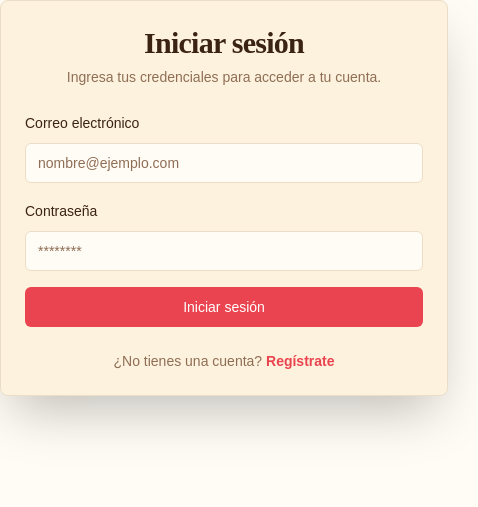
Test: LoginForm › should show validation error for invalid email
Type "invalid-email" into the field labelled "Correo electrónico" at {"x": 224, "y": 163}, box [25,143,423,183]
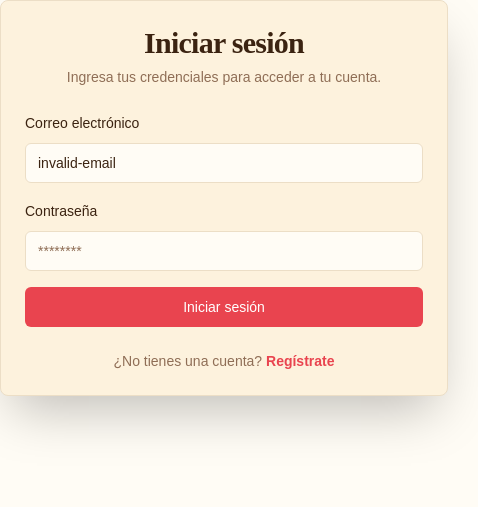
Click the button "Iniciar sesión" at {"x": 224, "y": 307}, box [25,287,423,327]
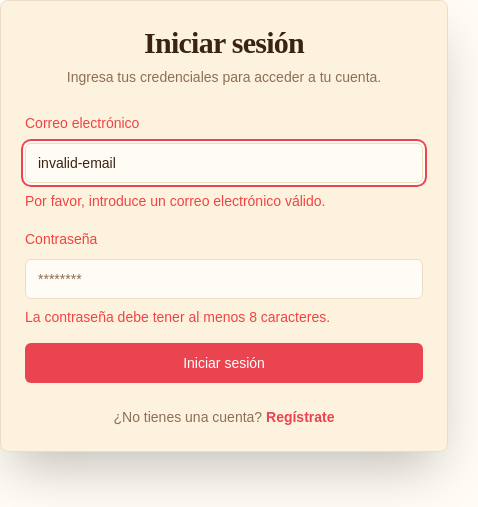
Expected: the text "Por favor, introduce un correo electrónico válido." is shown, [25,193,325,209]
